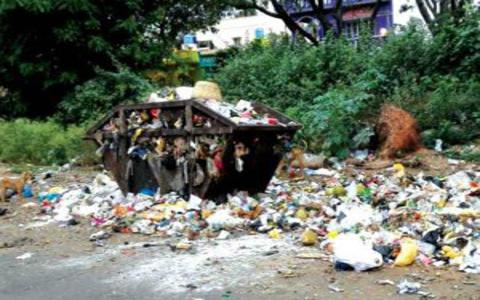overflowing garbage: (79, 97, 316, 266)
